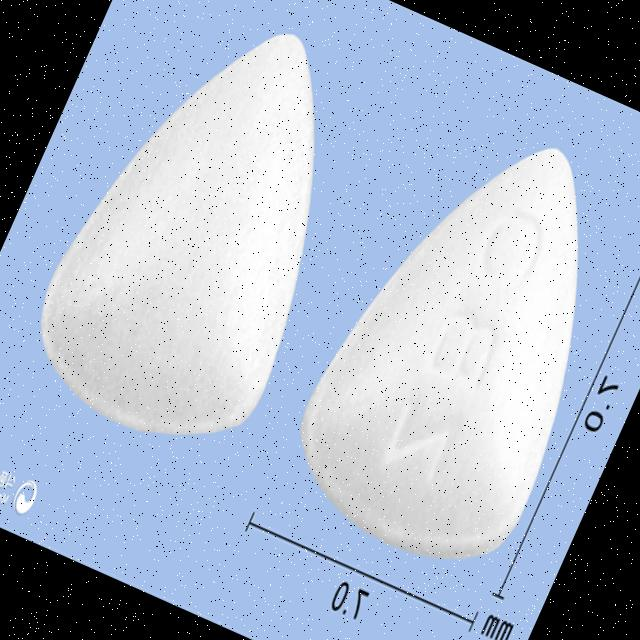Arava: (1, 0, 408, 480), (261, 96, 640, 600)
